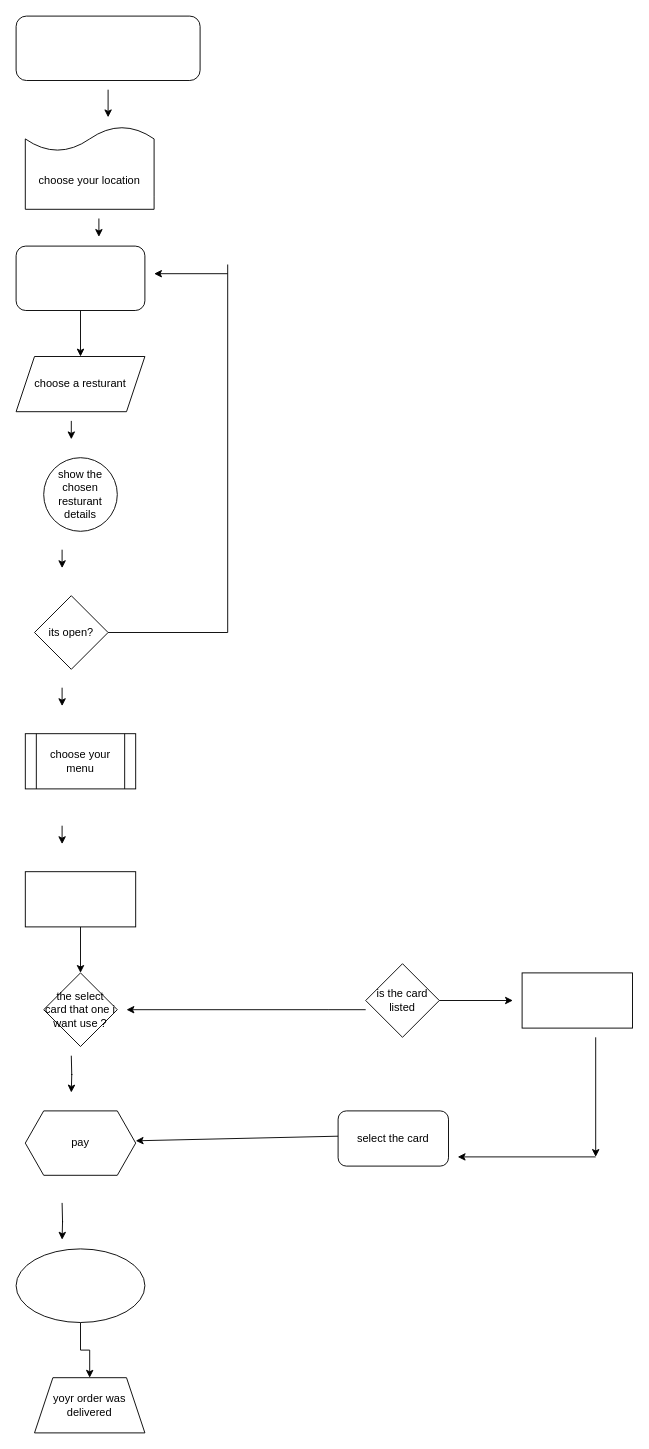
The diagram is 649 pixels wide and 1449 high, and some of its shapes have lost their labels. Here are the shapes that lost their labels. From the top down, the centre of each, then its label:
At point (107, 47): "start your order".
At point (80, 277): "show available resturants".
At point (80, 899): "choose your delivery time".
At point (576, 1000): "add the new card".
At point (80, 1285): "view the delivery progress".
